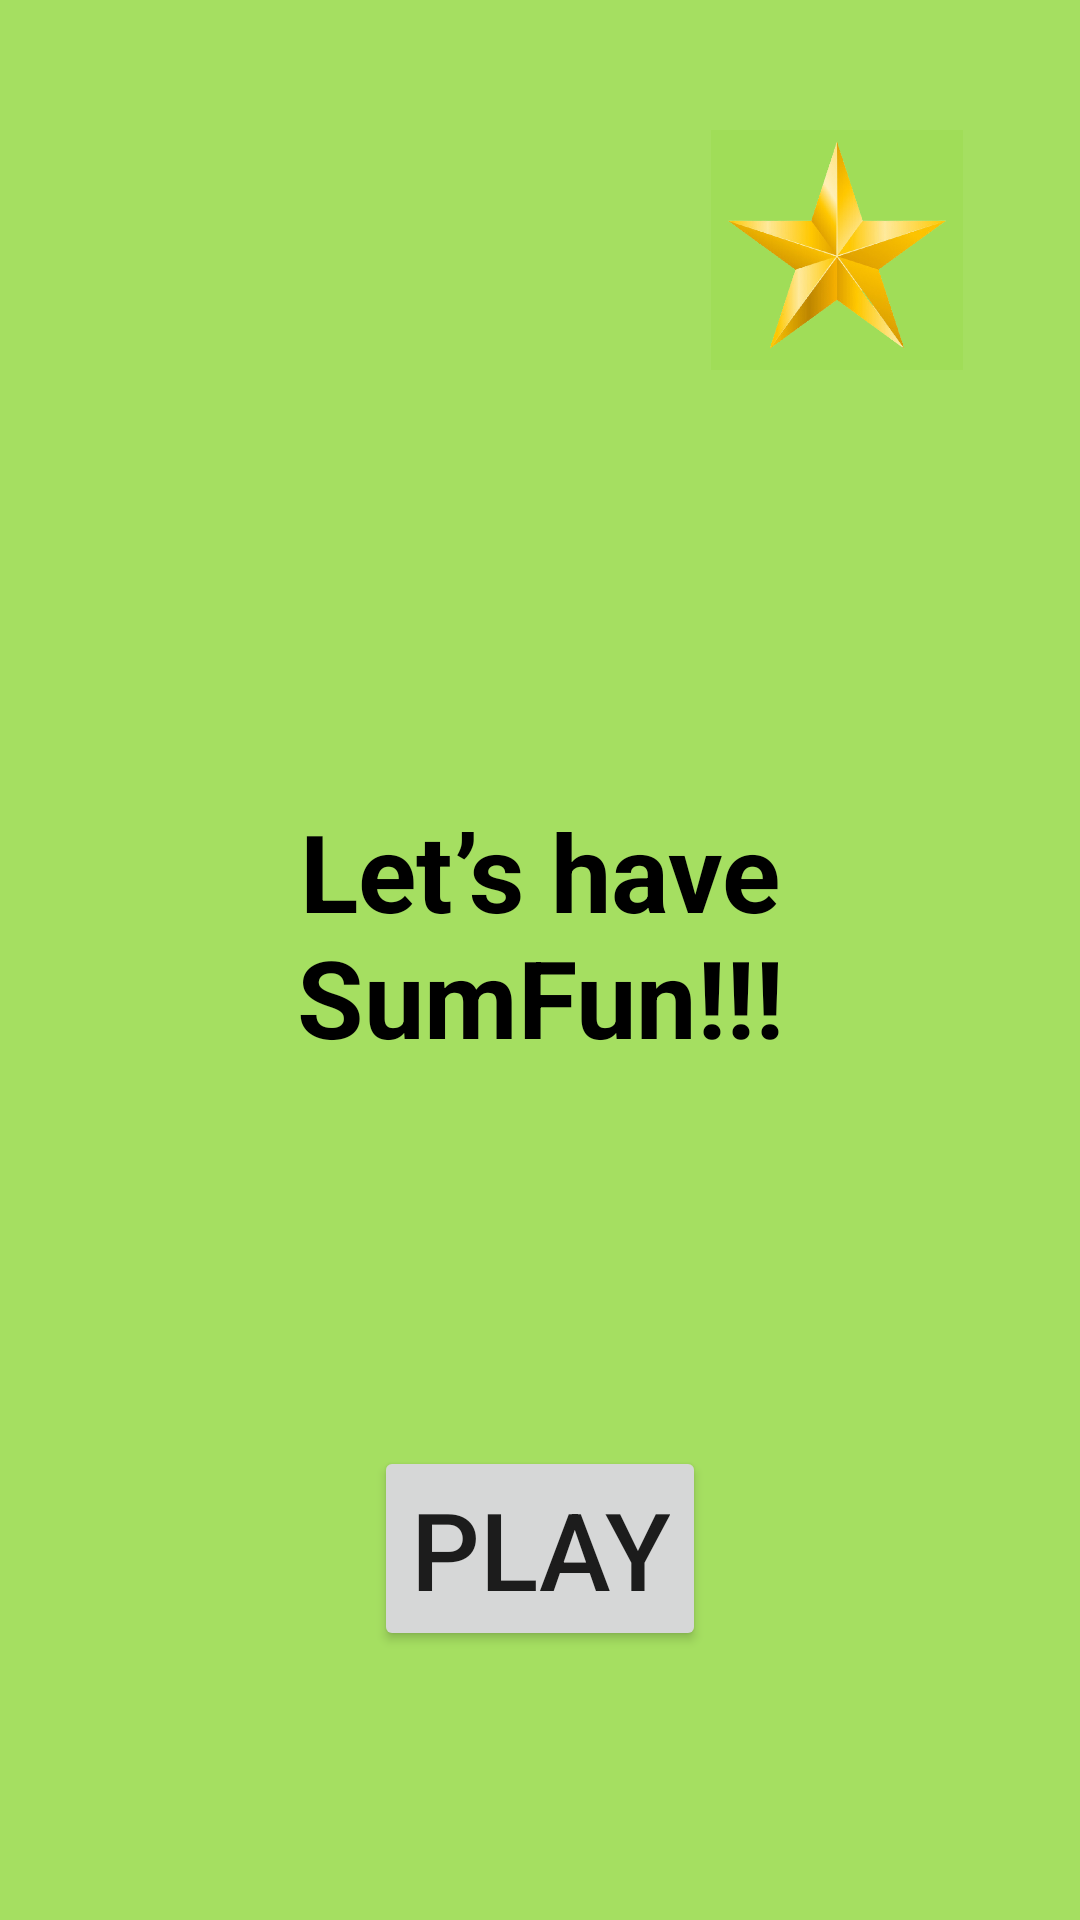

Screen size 1080px×1920px. Icon name, then its center in pixels as (x,y):
gold star: (837,250)
